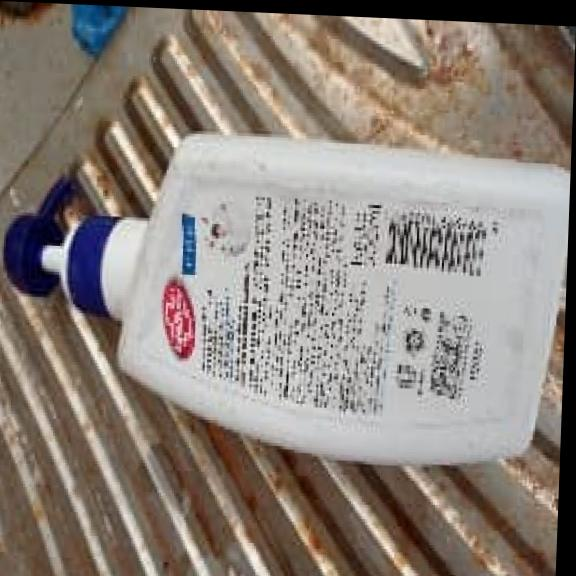Plastik: (2, 105, 569, 461)
